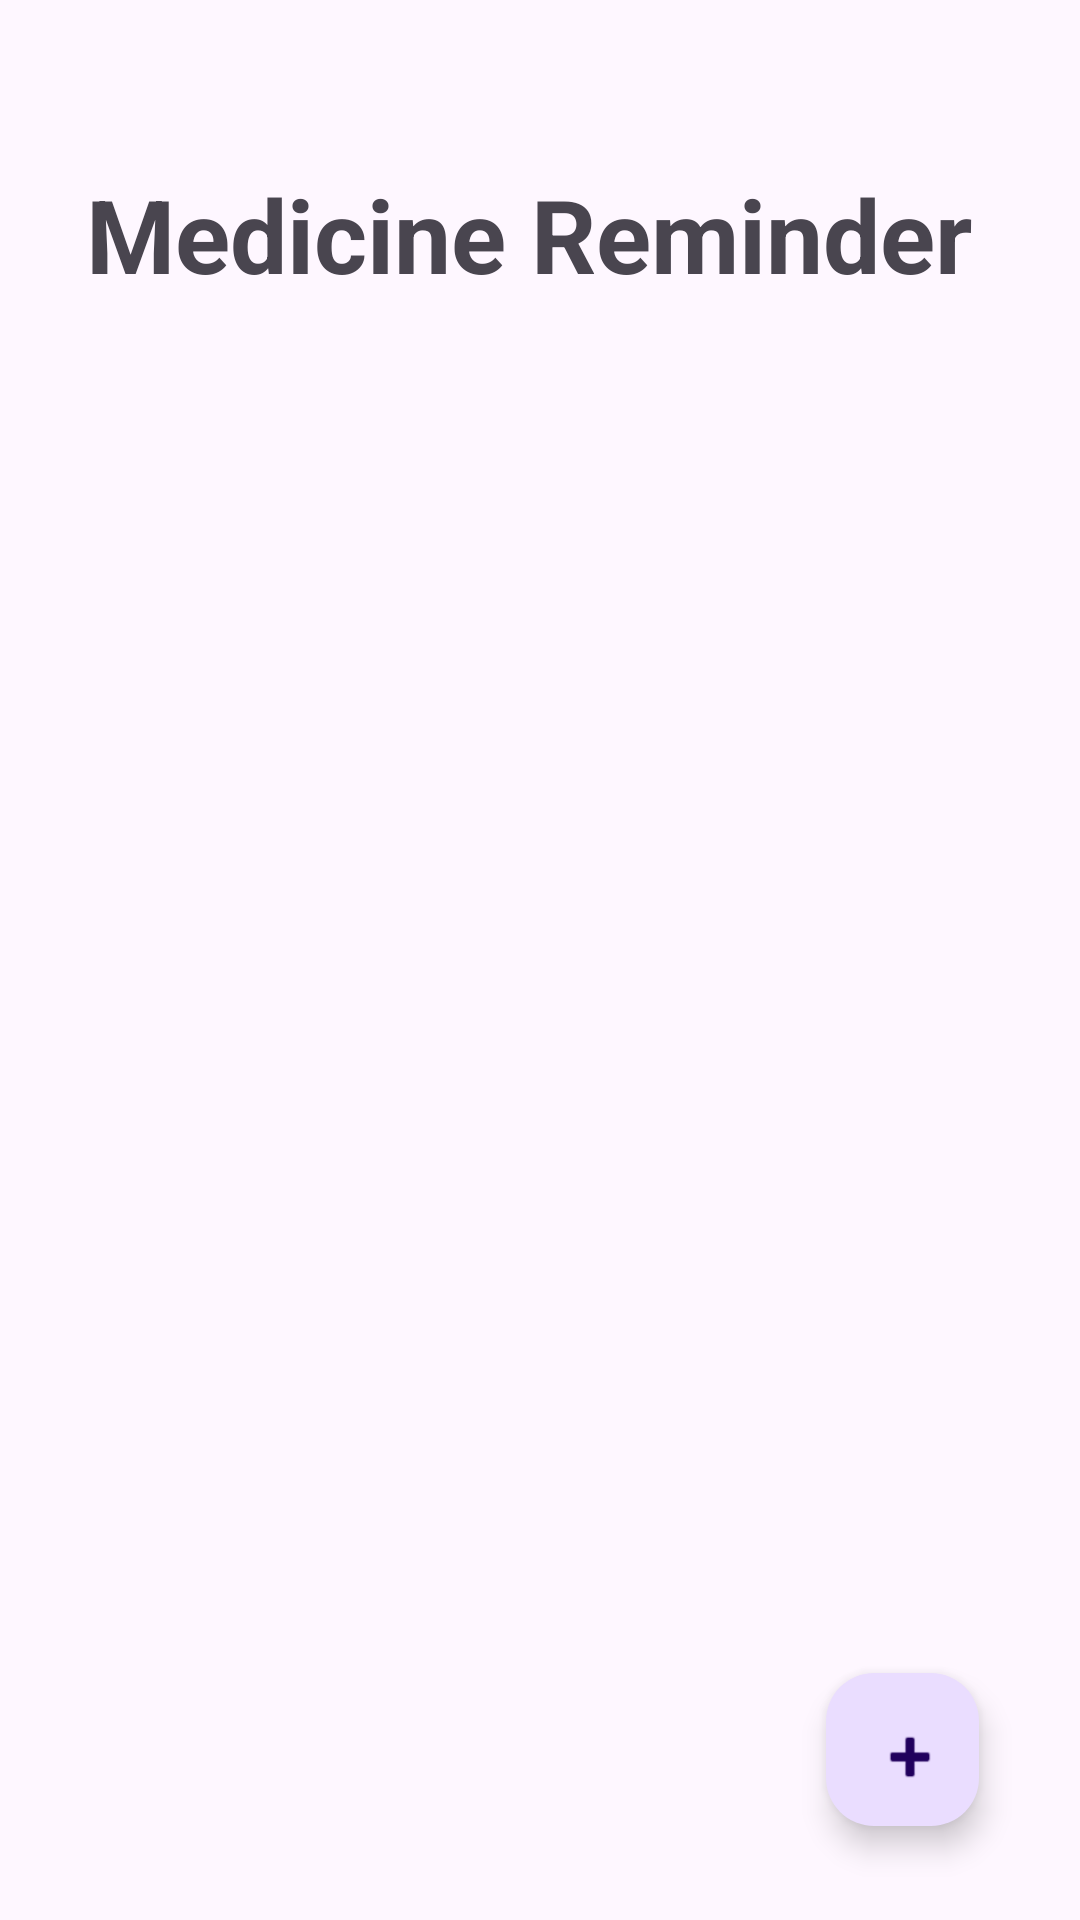

Named icons in this screenshot (1080×1920) and their centers, [x,y]:
add: [902,1749]
